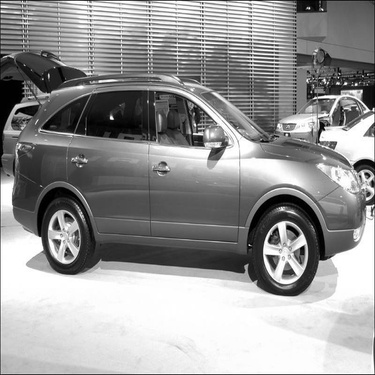car: (5, 75, 361, 286), (1, 45, 89, 181), (268, 82, 373, 138), (323, 106, 375, 192)
